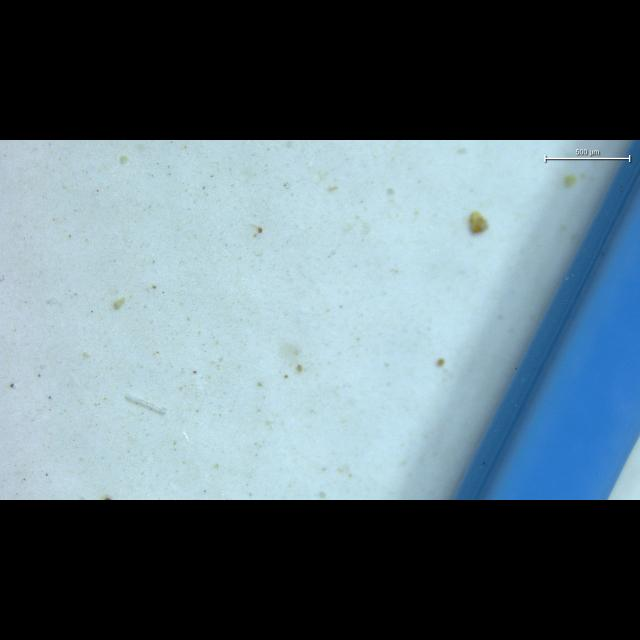Fibre: (125, 394, 167, 415)
Fragment: (469, 211, 488, 233)
